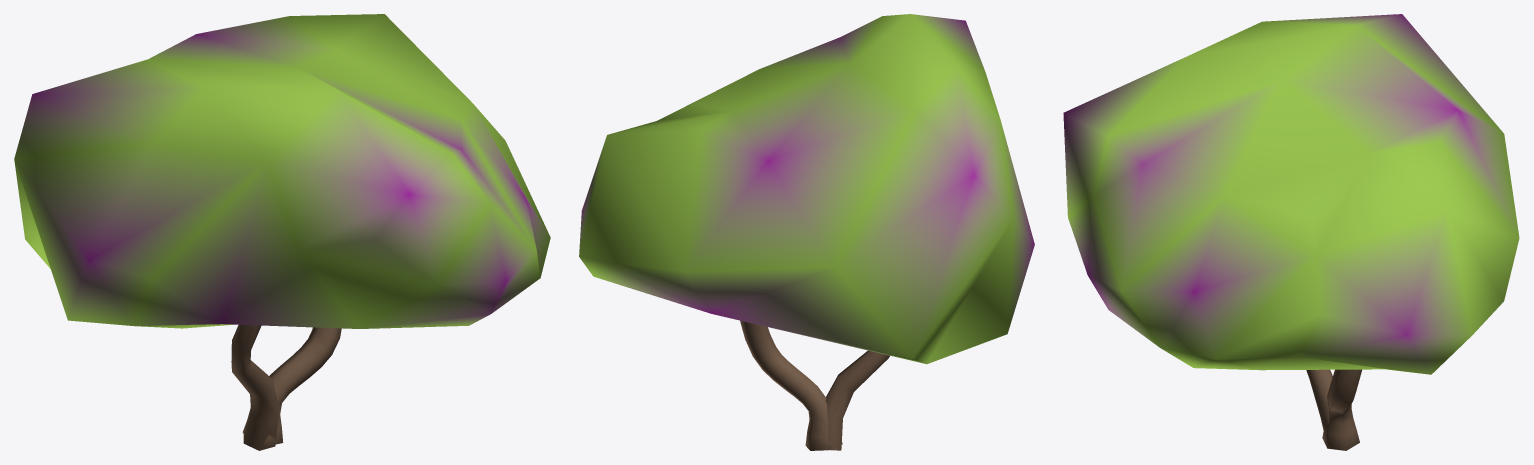
File: bush_flowers.fbx
The picture shows the model from 3 angles, left to right: view 1: azimuth 30°, elevation 25°; view 2: azimuth 150°, elevation 25°; view 3: azimuth 270°, elevation 25°; orthographic projection. The views are drawn at different scales.
Parts seen in each view (by area): view 1: Tube; view 2: Tube; view 3: Tube.
Part boxes in pixels (x1,y1,x2,y2): Tube: (14,14,550,450); Tube: (579,14,1034,450); Tube: (1063,14,1519,450).
Bounding box in the file's own units: 72.07 × 61.72 × 66.46.
